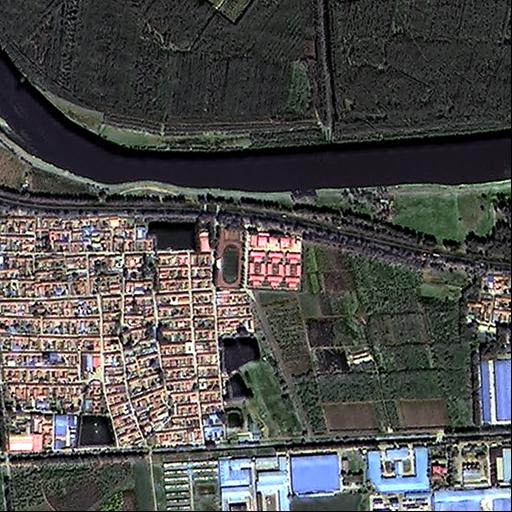school: (212, 223, 303, 290)
